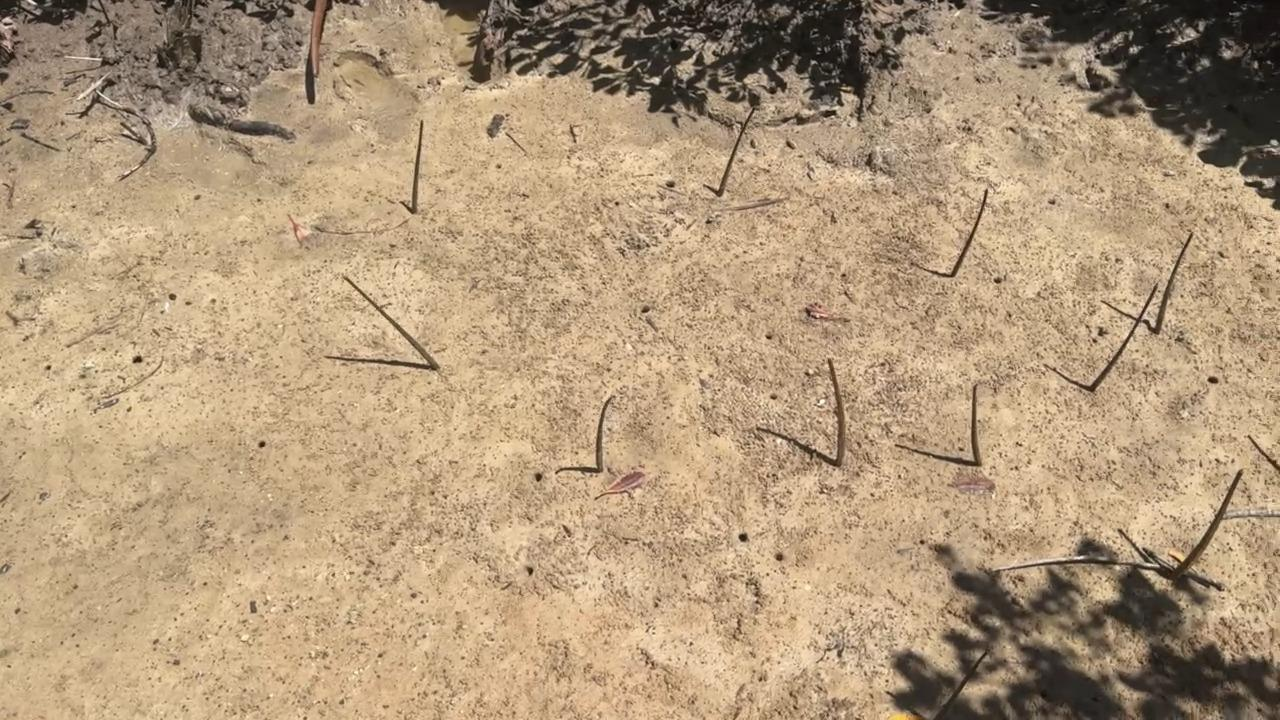Tree: (345, 278, 440, 371), (1170, 471, 1242, 577), (1087, 285, 1157, 392), (1154, 230, 1195, 332), (949, 189, 990, 279), (717, 109, 756, 197), (828, 357, 845, 465), (596, 392, 615, 472), (410, 120, 425, 216), (970, 384, 982, 468)
